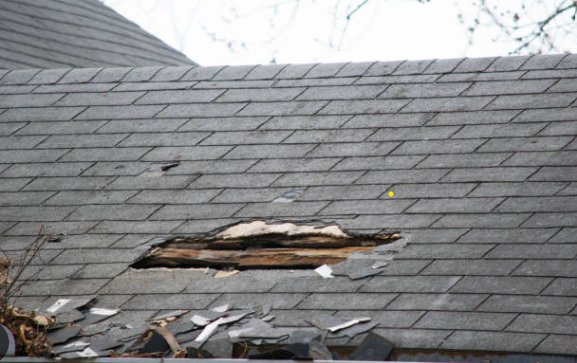roof damage: (126, 207, 414, 283)
